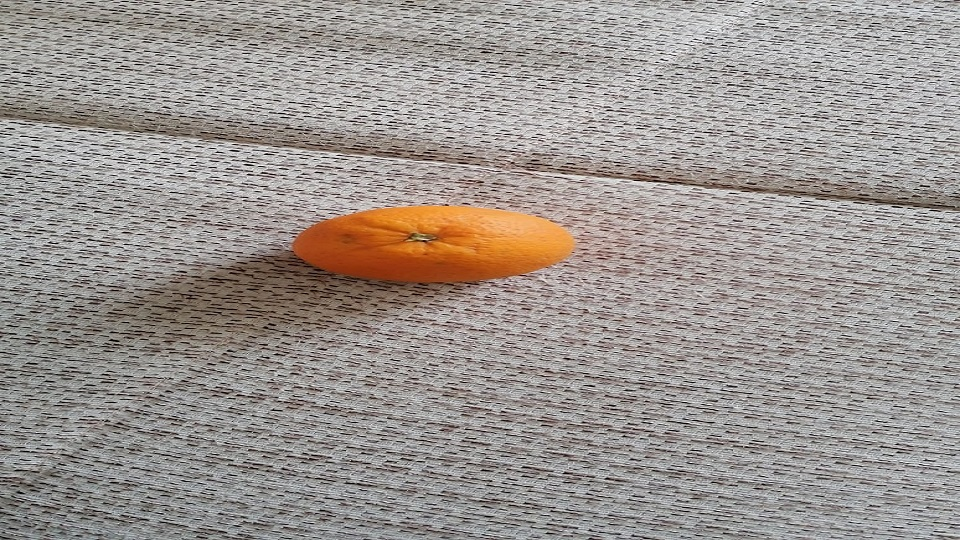portakal: (290, 203, 575, 285)
